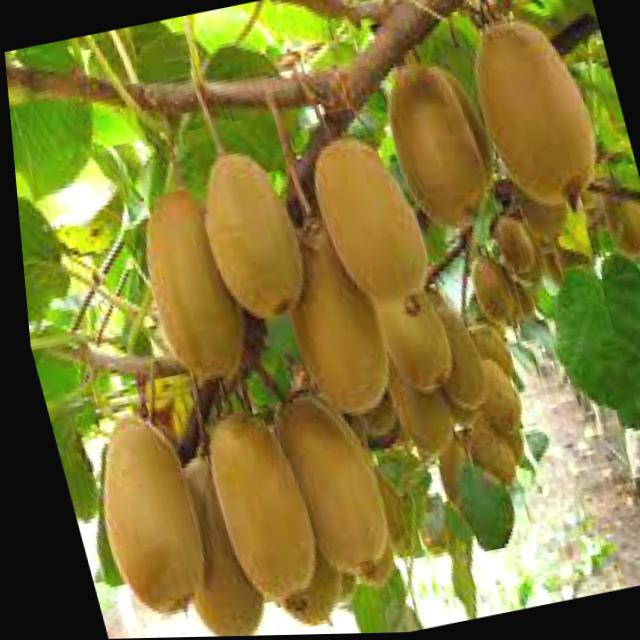kiwi: (457, 5, 613, 225), (70, 410, 211, 625), (258, 212, 397, 423), (256, 385, 394, 586), (294, 124, 436, 316), (187, 403, 317, 609), (125, 182, 250, 387), (179, 140, 313, 327), (143, 445, 267, 638), (370, 56, 502, 236), (358, 277, 451, 403), (411, 287, 491, 417), (451, 410, 514, 498), (462, 351, 521, 442), (420, 432, 476, 519), (456, 252, 514, 332), (483, 214, 538, 287), (596, 188, 640, 272)
